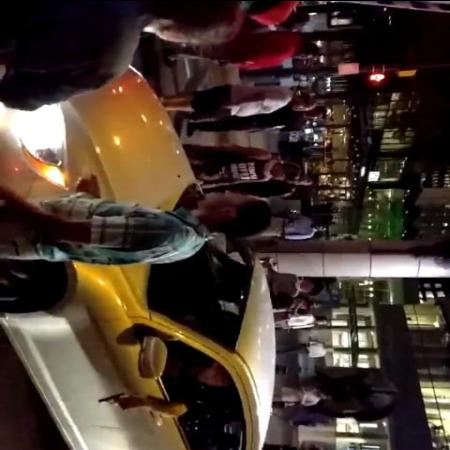Pistol: (98, 389, 139, 410)
